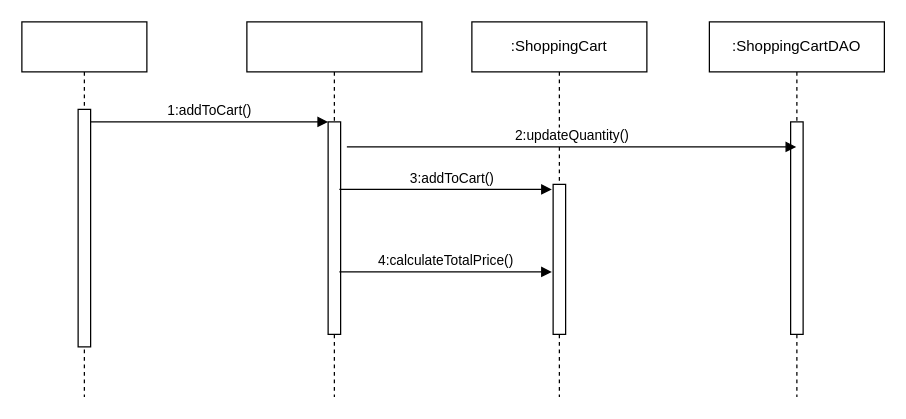
The diagram is 906 pixels wide and 419 high, and some of its shapes have lost their labels. Each missing label, with the box of its shape:
:Customer: (21, 21, 147, 397)
:ShoppingCartService: (246, 21, 422, 397)
